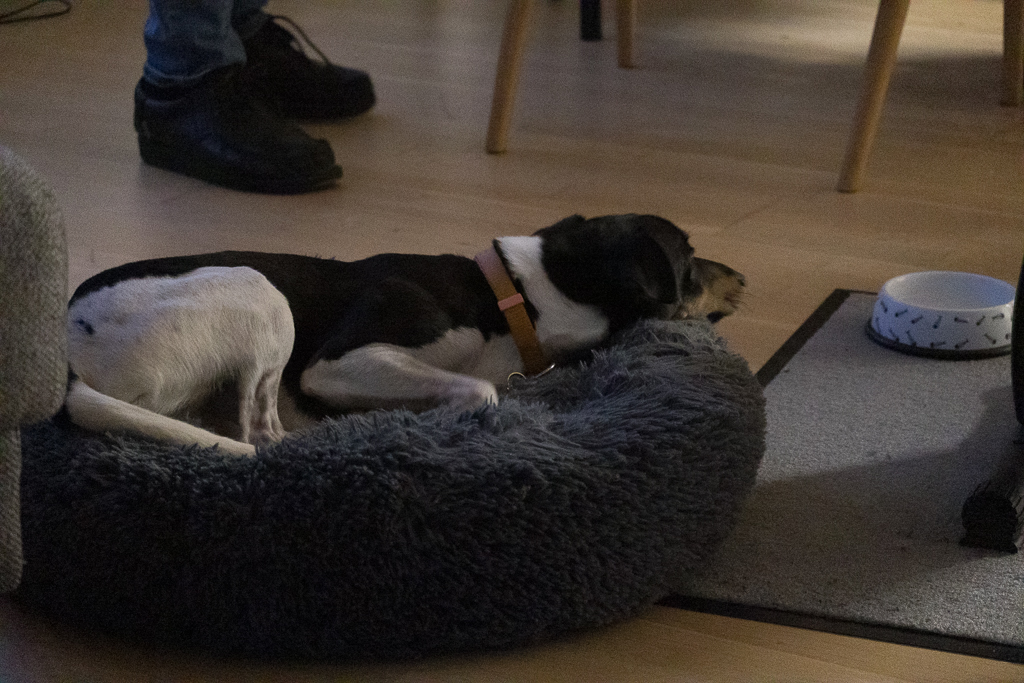Dog: (58, 201, 759, 466)
Humanoid: (125, 0, 382, 202)
